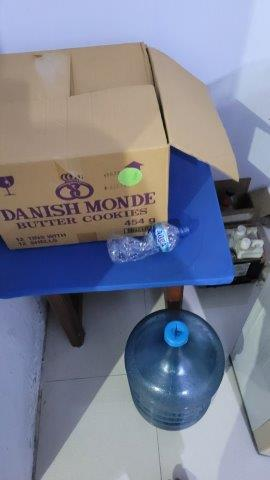botolplastik: (108, 224, 193, 265)
